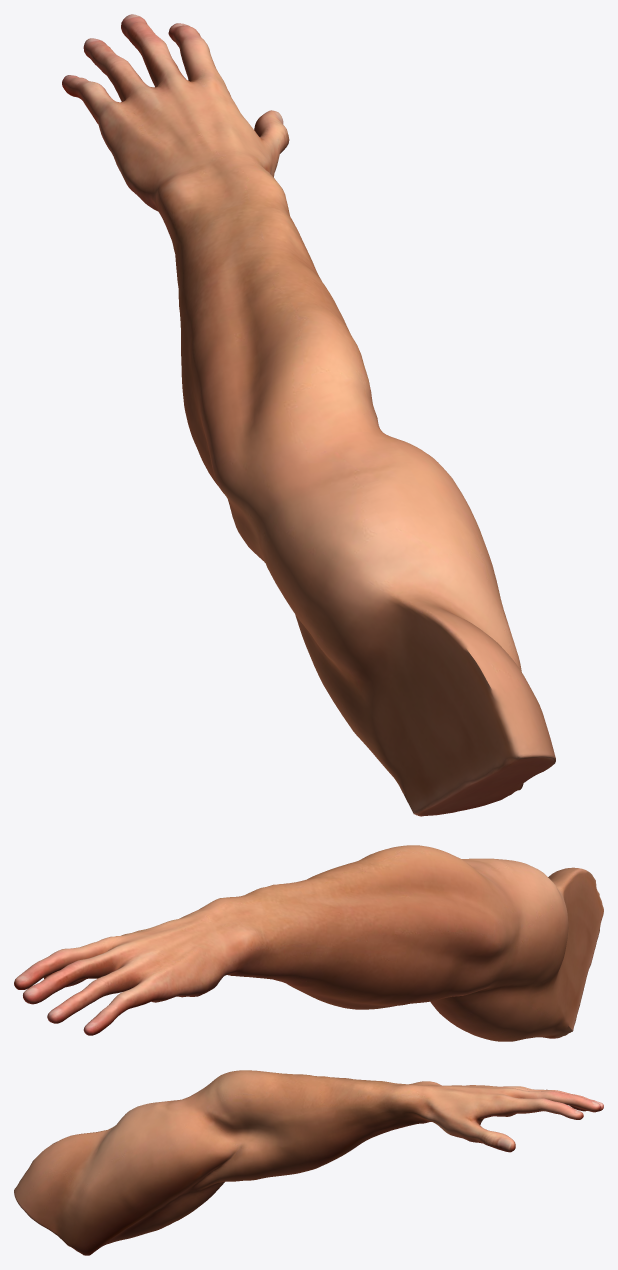
The model's file is surf_arm.glb.
3 renders of one model, top to bottom at view 1: azimuth 30°, elevation 25°; view 2: azimuth 150°, elevation 25°; view 3: azimuth 270°, elevation 25°, orthographic. The views are drawn at different scales.
Visible parts, largest first — view 1: surf_arm; view 2: surf_arm; view 3: surf_arm.
Boxes of the visible parts, x1,y1,x2,y2 form: surf_arm: [62, 14, 555, 816]; surf_arm: [14, 845, 603, 1041]; surf_arm: [14, 1070, 603, 1255].
Size of the model in its own units: 0.2782 by 0.3107 by 0.838.
Materials: 1 (1 with a texture image).
